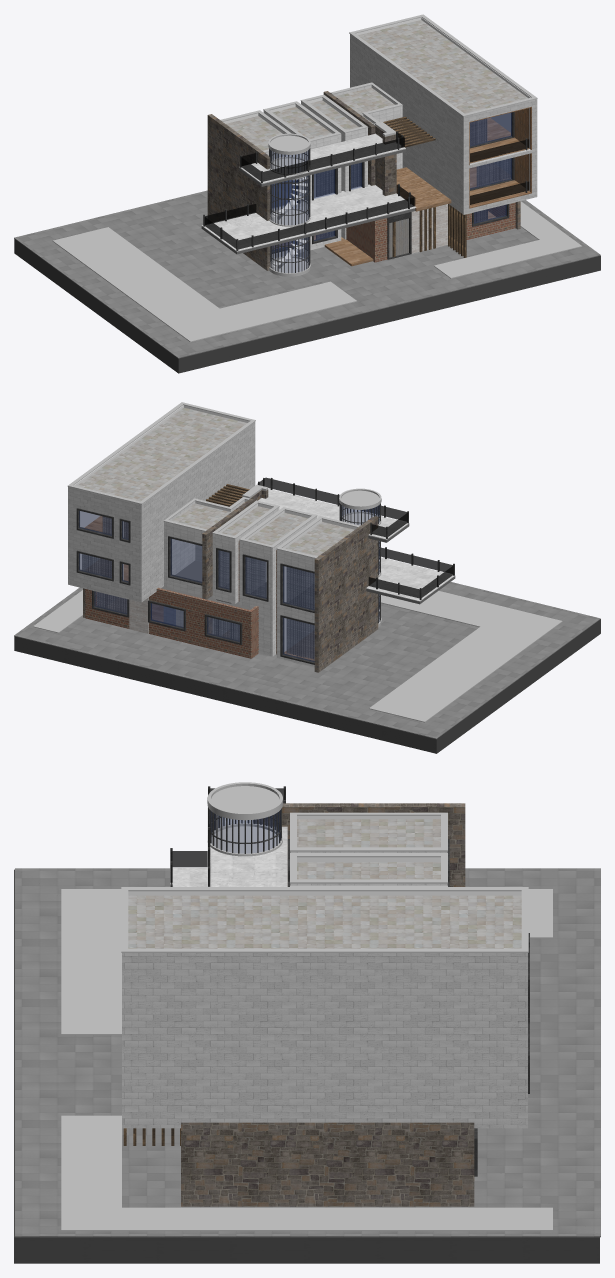
The picture shows the model from 3 angles, top to bottom: view 1: azimuth 30°, elevation 25°; view 2: azimuth 150°, elevation 25°; view 3: azimuth 270°, elevation 25°; orthographic projection. The views are drawn at different scales.
Visible parts, largest first — view 1: Box014_21 - Default_0, Line035_22 - Default_0, Line002_Wall Paint_0, Box013_Material #22_0, Rectangle003_02 - Default_0, Box056_Metal_0, Box053_03 - Default_0, Line044, Shape001_15 - Glossy Plastic_0, Box054_03 - Default_0, Line001_11 - Default_0, Line038 (+36 smaller); view 2: Box014_21 - Default_0, Line002_Wall Paint_0, Line035_22 - Default_0, Box013_Material #22_0, Box056_Metal_0, Rectangle003_02 - Default_0, Line001_11 - Default_0, Line003_06 - Default_0, Line007_06 - Default_0, Box053_03 - Default_0, Line050, Box054_03 - Default_0 (+30 smaller); view 3: Line002_Wall Paint_0, Box014_21 - Default_0, Box063, Rectangle003_02 - Default_0, Line044, Box013_Material #22_0, Line035_22 - Default_0, Rectangle025, Rectangle008_02 - Default_0, Box056_Metal_0, Box054_03 - Default_0, Rectangle007_02 - Default_0 (+10 smaller).
Part boxes in pixels (x1,y1,x2,y2): Box014_21 - Default_0: (14,190,600,358); Line035_22 - Default_0: (52,227,356,342); Line002_Wall Paint_0: (350,18,537,214); Box013_Material #22_0: (14,239,600,373); Rectangle003_02 - Default_0: (358,20,527,113); Box056_Metal_0: (207,114,270,270); Box053_03 - Default_0: (201,184,416,251); Line044: (434,201,582,278); Shape001_15 - Glossy Plastic_0: (269,148,310,273); Box054_03 - Default_0: (239,133,405,183); Line001_11 - Default_0: (346,202,515,262); Line038: (204,184,415,249); Box014_21 - Default_0: (14,582,600,739); Line002_Wall Paint_0: (68,405,255,602); Line035_22 - Default_0: (369,590,562,722); Box013_Material #22_0: (14,619,600,753); Box056_Metal_0: (314,516,378,672); Rectangle003_02 - Default_0: (77,407,247,501); Line001_11 - Default_0: (85,587,258,658); Line003_06 - Default_0: (164,499,247,626); Line007_06 - Default_0: (239,516,316,656); Box053_03 - Default_0: (366,557,455,601); Line050: (286,567,314,659); Box054_03 - Default_0: (258,488,409,539); Line002_Wall Paint_0: (122,953,527,1128); Box014_21 - Default_0: (15,868,600,1237); Box063: (181,1122,474,1206); Rectangle003_02 - Default_0: (128,895,521,948); Line044: (61,1115,552,1231); Box013_Material #22_0: (14,869,599,1263); Line035_22 - Default_0: (61,889,552,1035); Rectangle025: (121,887,528,952); Rectangle008_02 - Default_0: (297,819,440,847); Box056_Metal_0: (253,803,465,886); Box054_03 - Default_0: (207,807,287,886); Rectangle007_02 - Default_0: (297,862,440,879).
Size of the model in its own units: 30.4 by 10.91 by 20.51.
